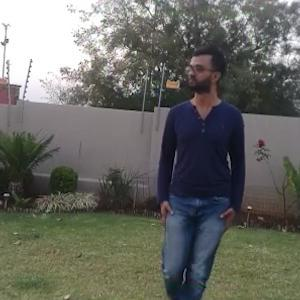follow: (154, 37, 248, 298)
